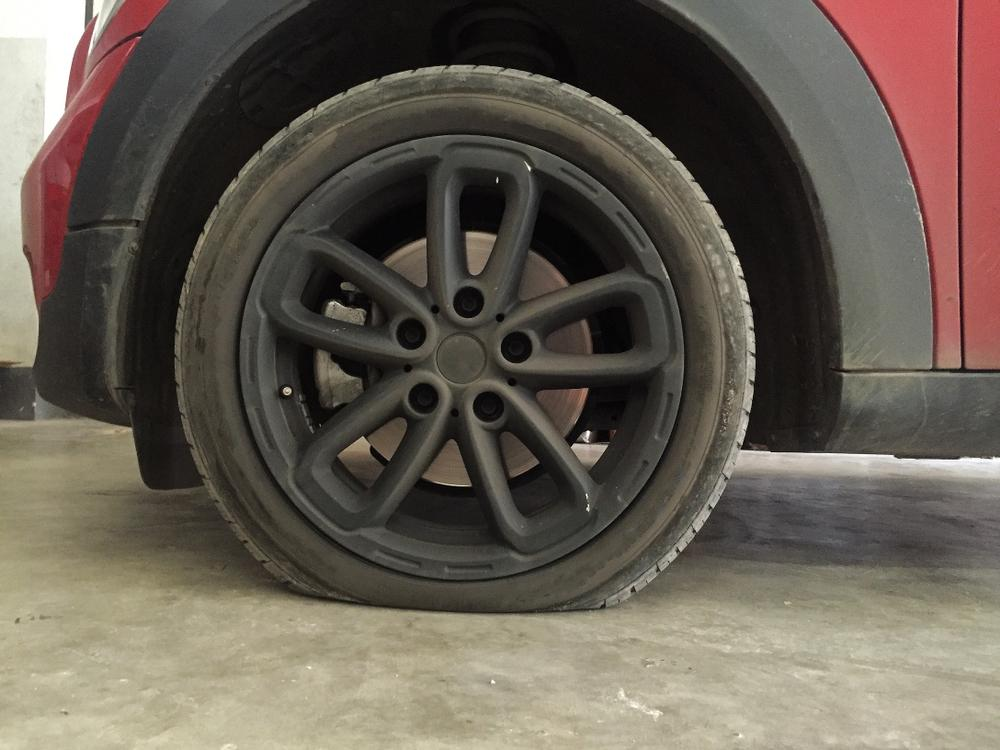tire flat: (174, 67, 757, 613)
